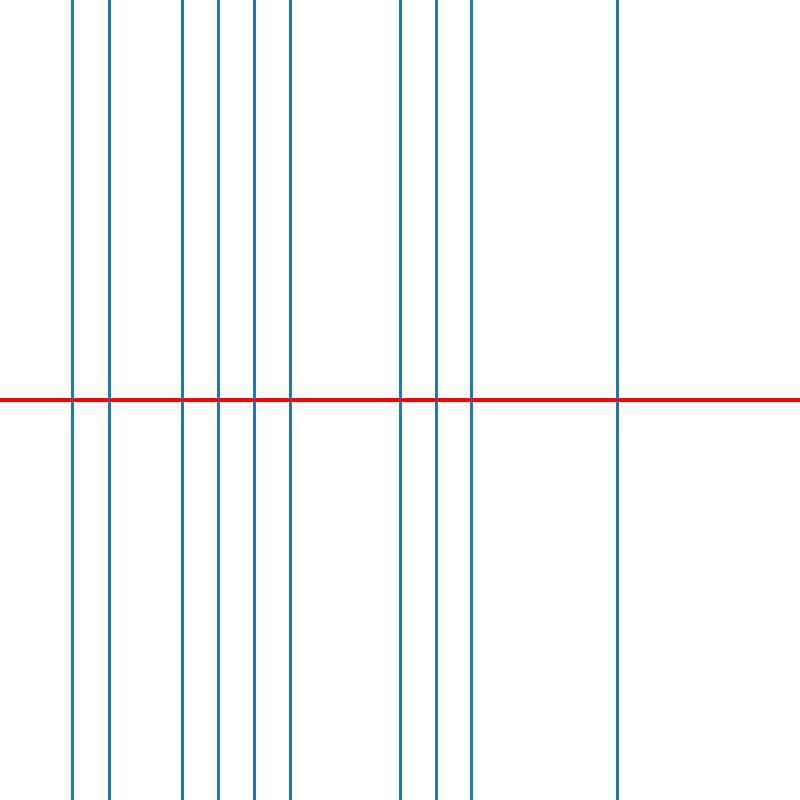root: (432, 396, 440, 404), (250, 396, 258, 404), (396, 396, 403, 404), (214, 396, 221, 404), (69, 396, 76, 404), (287, 396, 294, 404), (105, 396, 112, 404), (469, 396, 476, 404), (614, 396, 621, 404), (178, 396, 185, 404)
